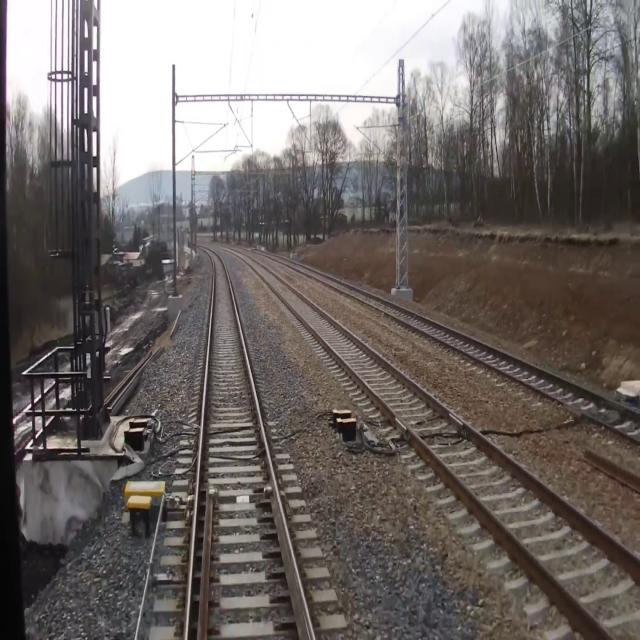rail-track: (220, 246, 640, 639), (248, 248, 640, 439), (188, 248, 311, 639)
